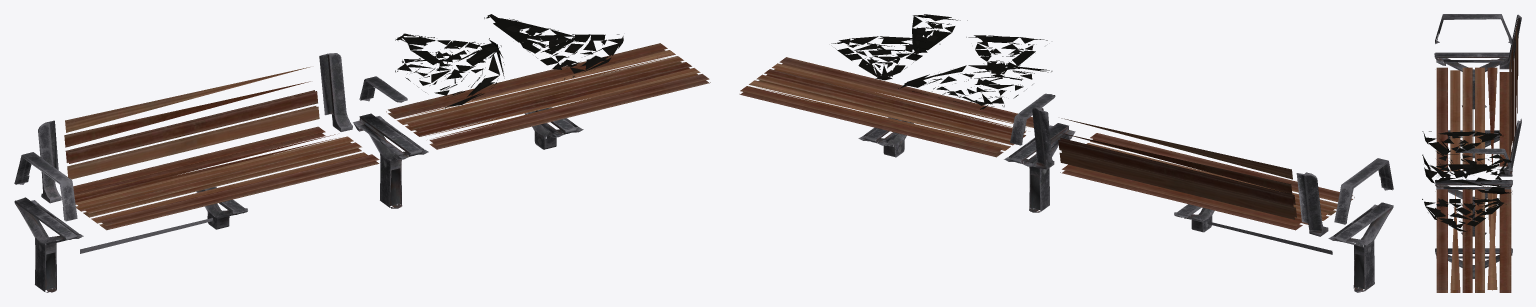
File: modular_street_seating.glb
3 views of the same model, side by side, from view 1: azimuth 30°, elevation 25°; view 2: azimuth 150°, elevation 25°; view 3: azimuth 270°, elevation 25° (orthographic). The views are drawn at different scales.
Parts seen in each view (by area): view 1: seat_bench, seat, seat_back, legs_double, legs_single, connector_60, back_support_l, connector_90, connector_45, arm_rest_01, connector_30, back_support_r (+4 smaller); view 2: seat_bench, seat_back, seat, legs_single, legs_double, connector_60, connector_90, connector_45, arm_rest_01, back_support_r, connector_30, back_support_l (+4 smaller); view 3: seat_bench, seat, connector_60, legs_single, connector_90, seat_back, legs_double, connector_45, connector_30, arm_rest_01, suspended_support_02, back_support_r (+3 smaller).
Boxes of the visible parts, bbox=[...] form: seat_bench: bbox=[386, 43, 710, 149]; seat: bbox=[73, 126, 380, 230]; seat_back: bbox=[64, 67, 319, 179]; legs_double: bbox=[353, 113, 428, 208]; legs_single: bbox=[14, 197, 83, 292]; connector_60: bbox=[520, 34, 623, 79]; back_support_l: bbox=[319, 53, 352, 131]; connector_90: bbox=[395, 38, 504, 108]; connector_45: bbox=[395, 33, 501, 77]; arm_rest_01: bbox=[14, 152, 77, 221]; connector_30: bbox=[484, 14, 578, 53]; back_support_r: bbox=[38, 120, 61, 203]; seat_bench: bbox=[739, 57, 1033, 157]; seat_back: bbox=[1058, 118, 1296, 219]; seat: bbox=[1060, 133, 1354, 230]; legs_single: bbox=[1328, 202, 1393, 292]; legs_double: bbox=[1004, 123, 1075, 212]; connector_60: bbox=[831, 36, 940, 80]; connector_90: bbox=[898, 64, 1052, 109]; connector_45: bbox=[966, 35, 1047, 77]; arm_rest_01: bbox=[1334, 158, 1393, 224]; back_support_r: bbox=[1296, 172, 1328, 236]; connector_30: bbox=[912, 14, 967, 57]; back_support_l: bbox=[1032, 106, 1054, 169]; seat_bench: bbox=[1435, 189, 1512, 292]; seat: bbox=[1436, 67, 1511, 171]; connector_60: bbox=[1422, 198, 1506, 231]; legs_single: bbox=[1434, 52, 1509, 109]; connector_90: bbox=[1422, 154, 1511, 194]; seat_back: bbox=[1509, 25, 1518, 156]; legs_double: bbox=[1435, 179, 1512, 236]; connector_45: bbox=[1422, 131, 1503, 157]; connector_30: bbox=[1424, 164, 1499, 183]; arm_rest_01: bbox=[1435, 14, 1512, 44]; suspended_support_02: bbox=[1435, 248, 1512, 278]; back_support_r: bbox=[1499, 14, 1521, 69].
Bounding box in the file's own units: 4.34 × 0.9507 × 0.7702.
Materials: 5 (5 with a texture image).
